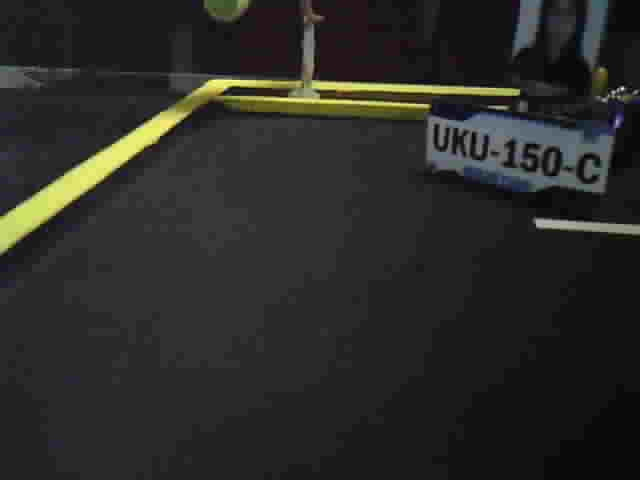PLACA: (424, 96, 618, 207)
ROSTRO: (522, 1, 593, 81)
